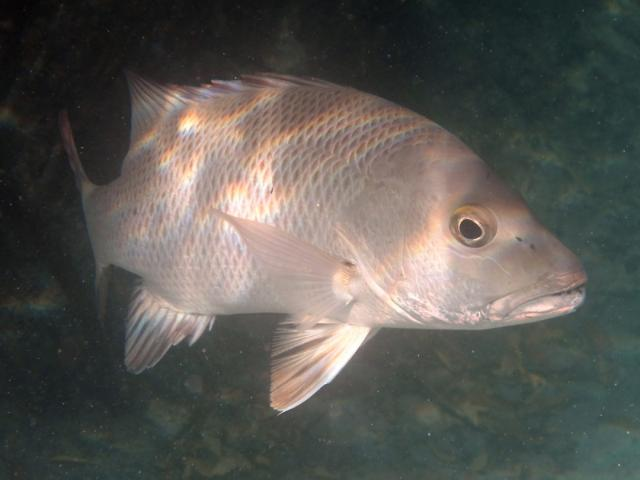Mulut: (452, 250, 614, 363)
Sirip Anal: (113, 266, 225, 386)
Sirip Dada: (196, 191, 366, 345)
Sirip Ekor: (46, 91, 126, 345)
Sirip Perut: (260, 308, 384, 421)
Sirip Punggung: (110, 56, 350, 178)
